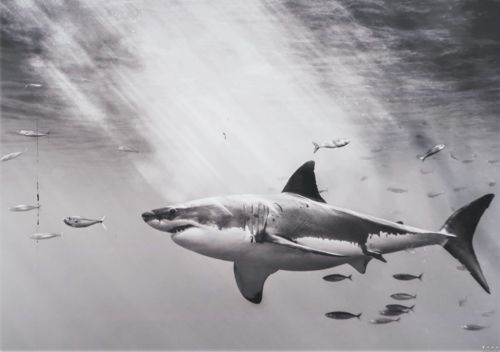shark: (137, 155, 500, 312)
